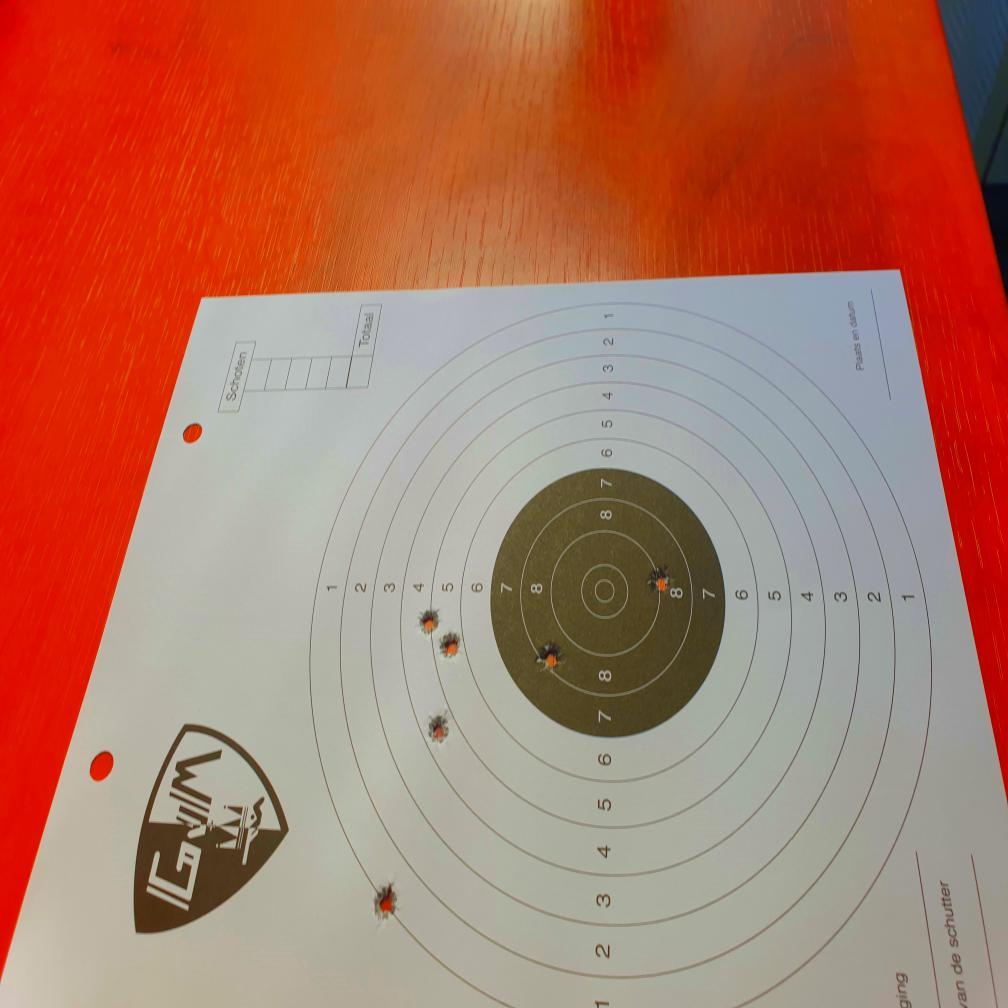1: (371, 878, 400, 927)
4: (425, 707, 453, 752)
5: (416, 605, 441, 638)
6: (440, 629, 462, 662)
8: (534, 640, 564, 675)
9: (645, 563, 675, 596)
Target: (307, 297, 935, 1008)
black_contour: (490, 466, 726, 736)
